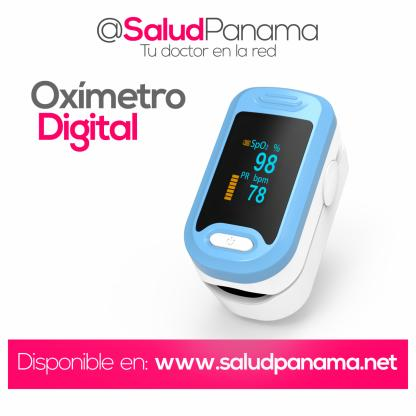Displays: (200, 112, 313, 223)
